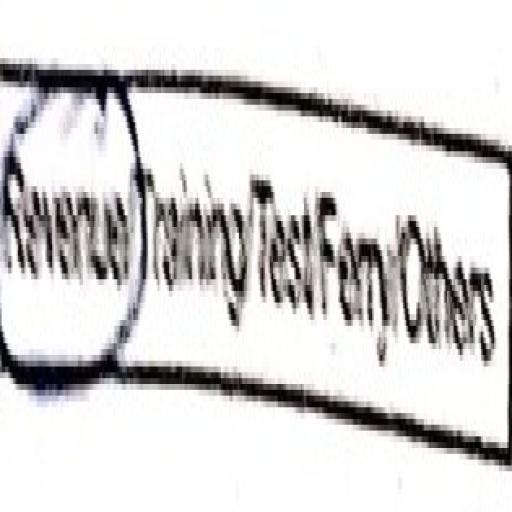check: (0, 29, 135, 413)
